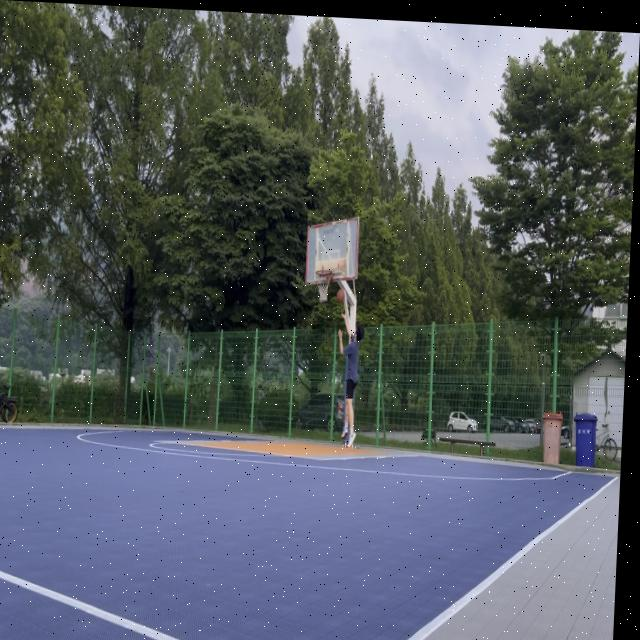basketball: (336, 288, 345, 304)
hoop: (314, 268, 332, 303)
